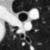node: (26, 7, 40, 20), (23, 21, 32, 31), (34, 28, 39, 33), (30, 45, 35, 50), (21, 42, 25, 46)
